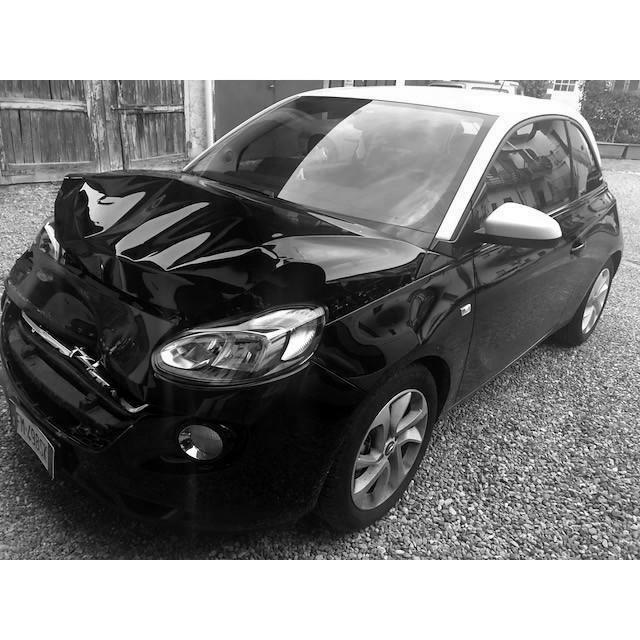bonnet-dent: (52, 160, 368, 306)
fender-dent: (363, 284, 481, 382)
front-bumper-dent: (4, 288, 173, 505)
